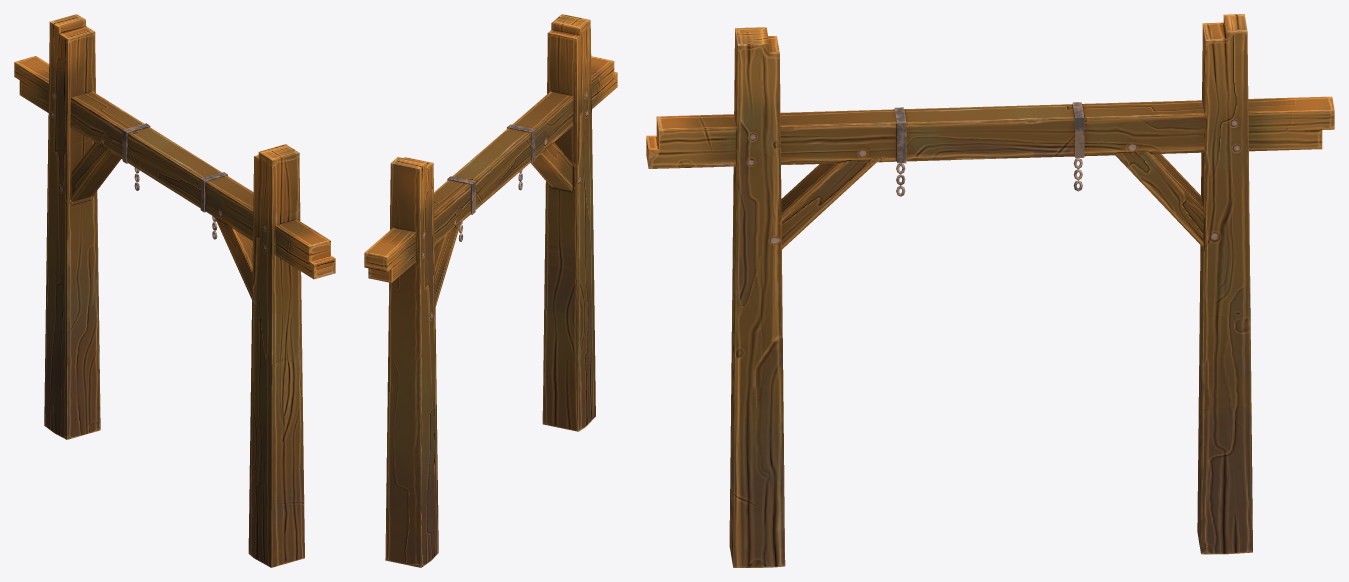
The model's file is enterence_1.fbx.
3 renders of one model, left to right at view 1: azimuth 30°, elevation 25°; view 2: azimuth 150°, elevation 25°; view 3: azimuth 270°, elevation 25°, orthographic. The views are drawn at different scales.
Parts seen in each view (by area): view 1: Cube.1322; view 2: Cube.1322; view 3: Cube.1322.
Part boxes in pixels (box(x1,y1,x2,y2)): Cube.1322: box(14, 14, 335, 567); Cube.1322: box(364, 14, 617, 567); Cube.1322: box(646, 14, 1334, 567).
Size of the model in its own units: 0.7958 by 5.15 by 6.18.
